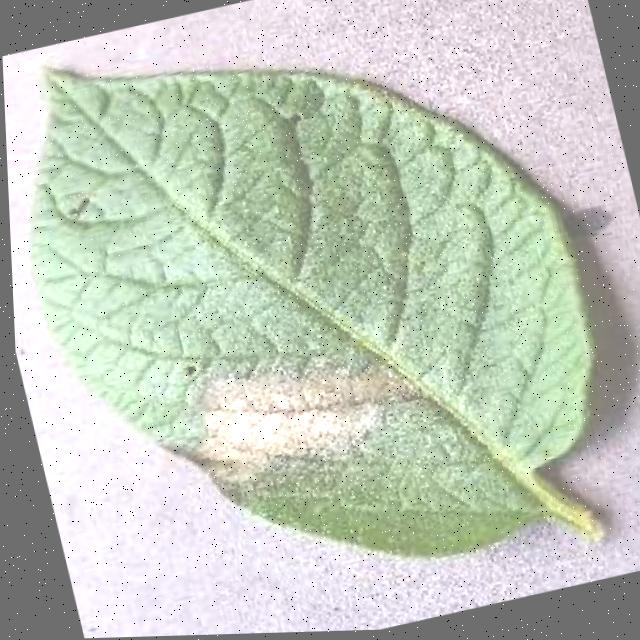Late_blight: (145, 303, 444, 521)
